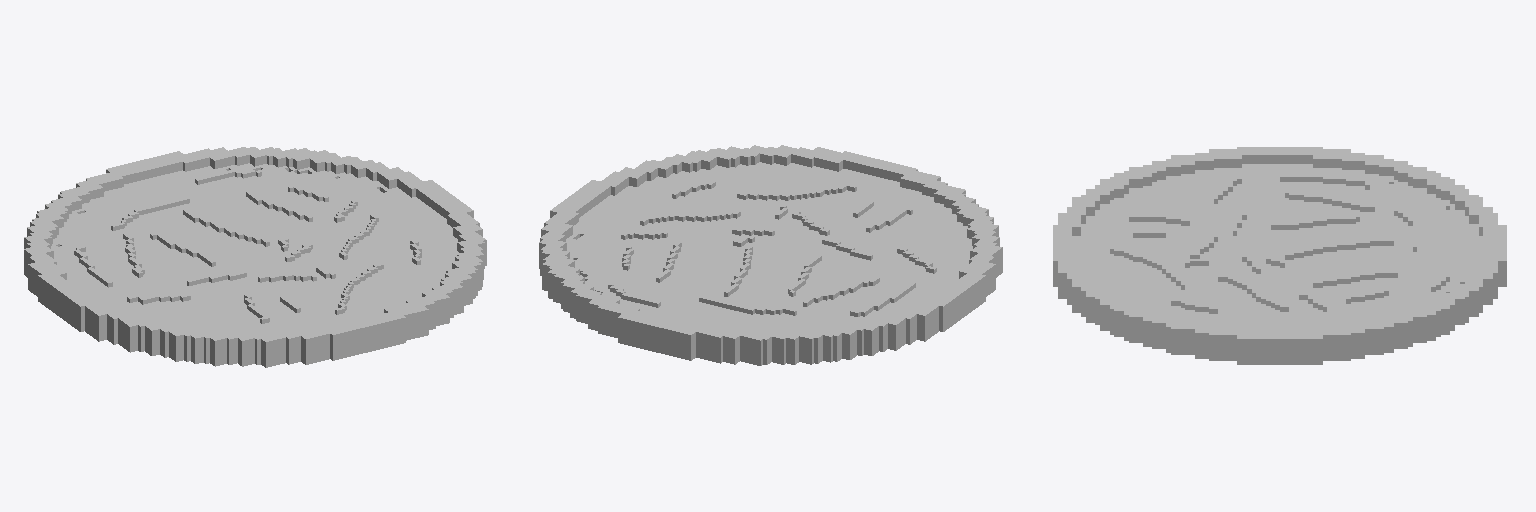
The model's file is EnsaladaSimple.obj.
3 renders of one model, left to right at view 1: azimuth 30°, elevation 25°; view 2: azimuth 150°, elevation 25°; view 3: azimuth 270°, elevation 25°, orthographic.
Parts seen in each view (by area): view 1: object 1; view 2: object 1; view 3: object 1.
Part boxes in pixels (left/top/right/bottom): object 1: left=24, top=147, right=486, bottom=367; object 1: left=539, top=145, right=1002, bottom=365; object 1: left=1053, top=147, right=1506, bottom=364.
Size of the model in its own units: 9.6 by 0.6 by 9.6.